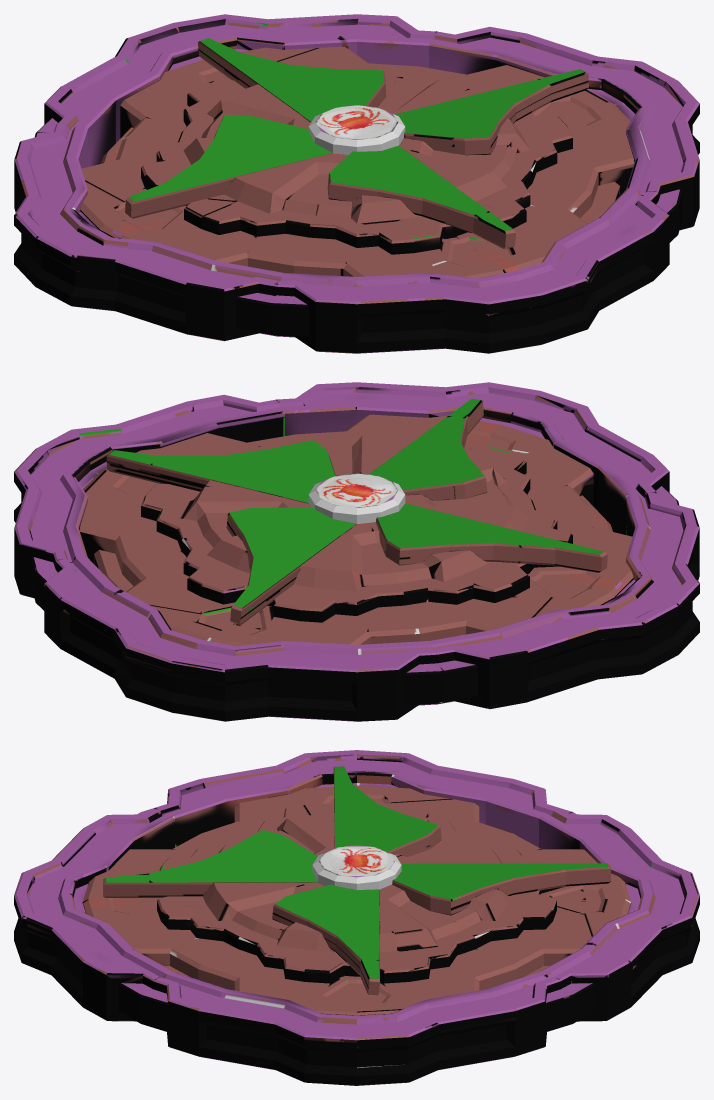
3 renders of one model, top to bottom at view 1: azimuth 30°, elevation 25°; view 2: azimuth 150°, elevation 25°; view 3: azimuth 270°, elevation 25°, orthographic. The views are drawn at different scales.
Visible parts, largest first — view 1: bleivr2_20A4A0C4AAB746818C05AB3C72A63893, bleivr2_20A4A0C4AAB746818C05AB3C72A63893.001; view 2: bleivr2_20A4A0C4AAB746818C05AB3C72A63893, bleivr2_20A4A0C4AAB746818C05AB3C72A63893.001; view 3: bleivr2_20A4A0C4AAB746818C05AB3C72A63893, bleivr2_20A4A0C4AAB746818C05AB3C72A63893.001.
Boxes of the visible parts, left/top/right/bottom form: bleivr2_20A4A0C4AAB746818C05AB3C72A63893: left=14, top=14, right=699, bottom=353; bleivr2_20A4A0C4AAB746818C05AB3C72A63893.001: left=14, top=14, right=699, bottom=353; bleivr2_20A4A0C4AAB746818C05AB3C72A63893: left=14, top=382, right=699, bottom=721; bleivr2_20A4A0C4AAB746818C05AB3C72A63893.001: left=14, top=382, right=699, bottom=721; bleivr2_20A4A0C4AAB746818C05AB3C72A63893: left=14, top=750, right=699, bottom=1085; bleivr2_20A4A0C4AAB746818C05AB3C72A63893.001: left=14, top=751, right=699, bottom=1085.
Bounding box in the file's own units: 2190 × 327 × 2190.
Materials: 2 (2 with a texture image).
